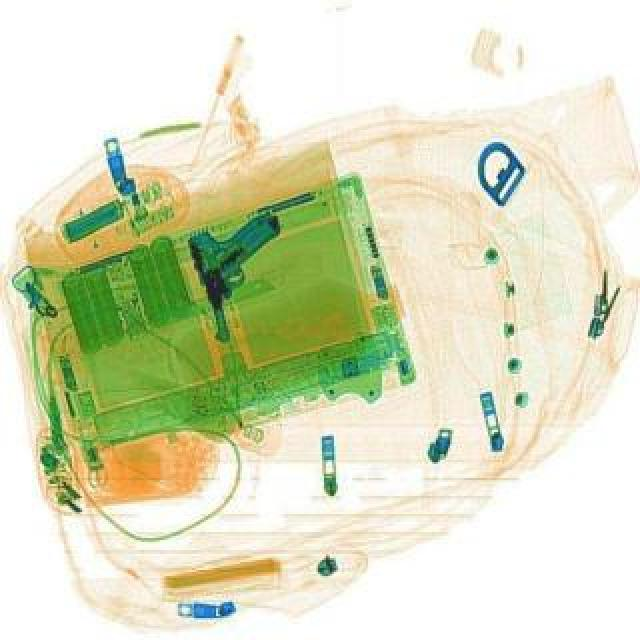gun: (184, 208, 304, 340)
